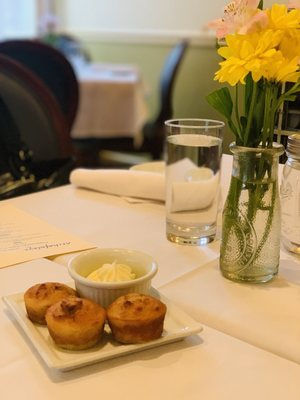sushi: (67, 248, 159, 309)
